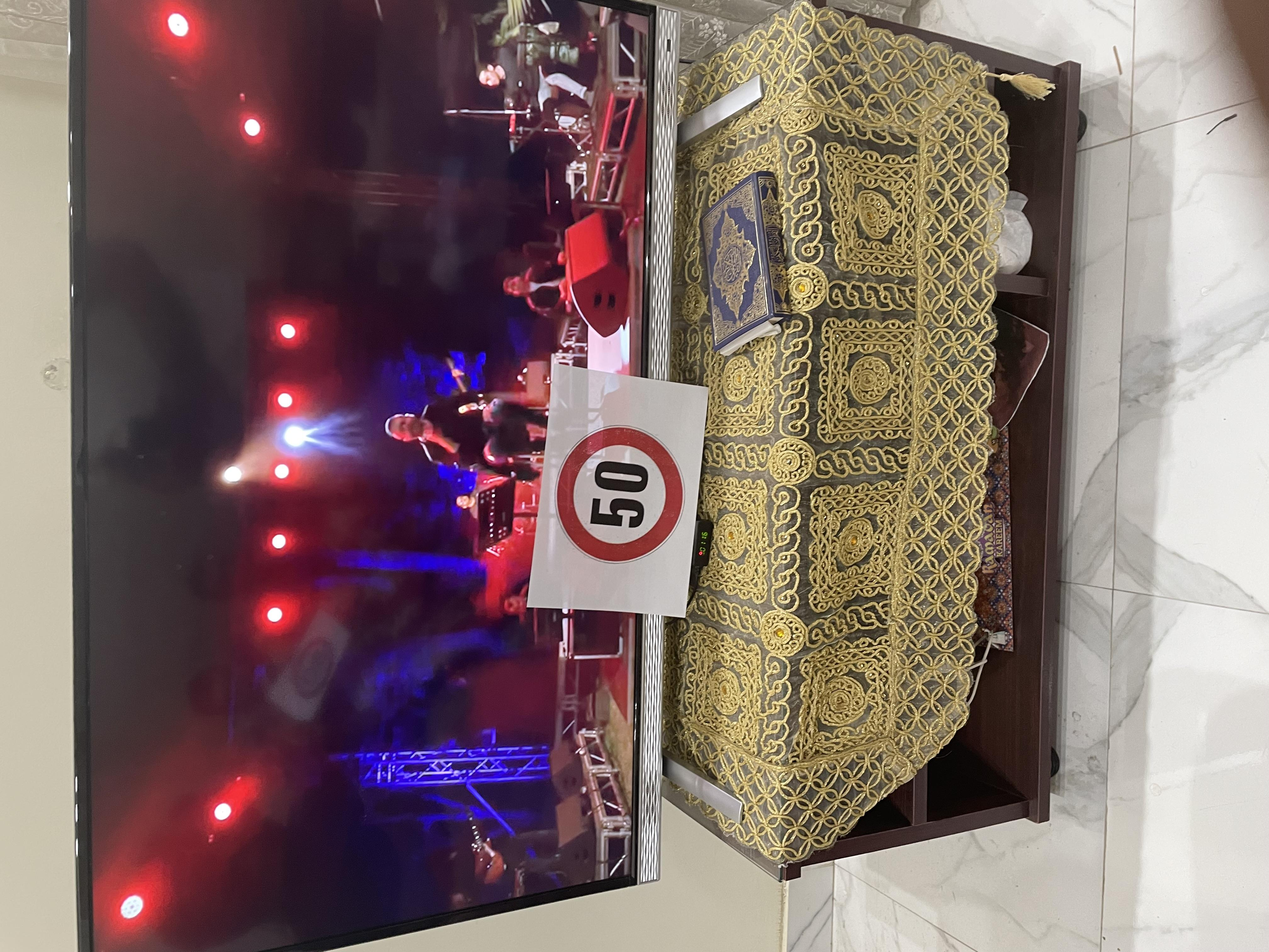50-Speed: (515, 414, 703, 513)
